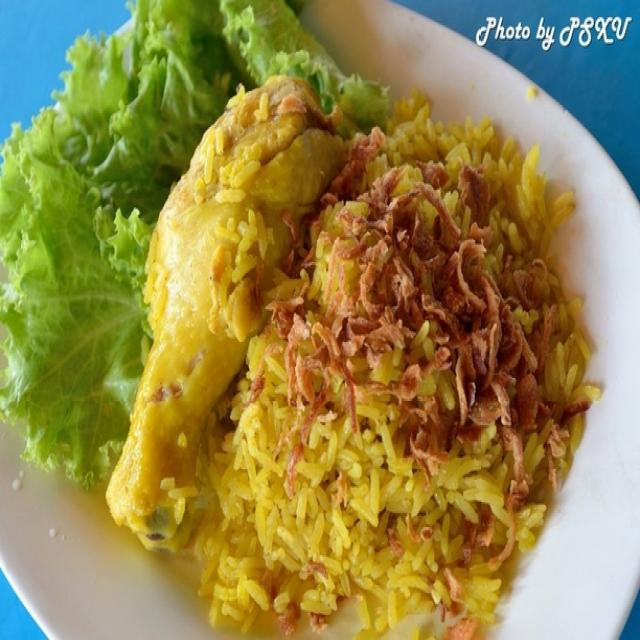米饭主食: (1, 1, 632, 637)
